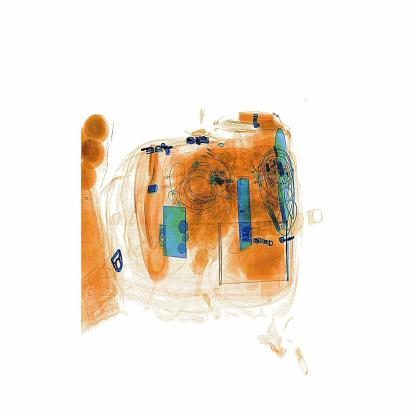pliers: (223, 167, 264, 253)
